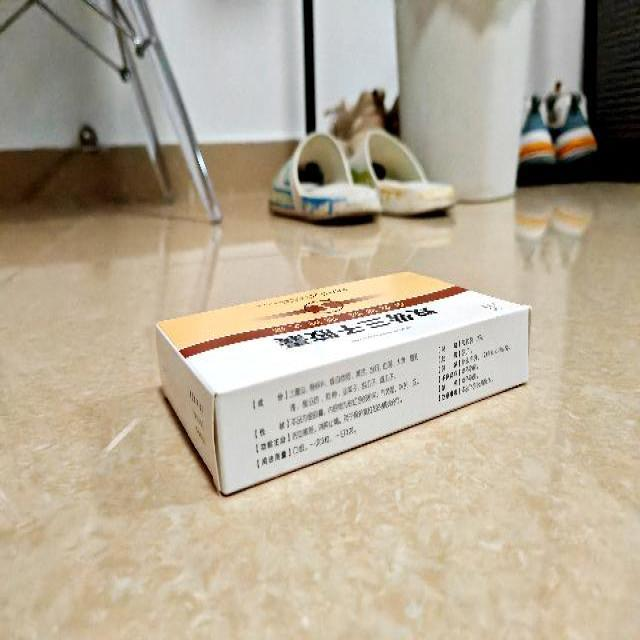box: (156, 268, 534, 498)
